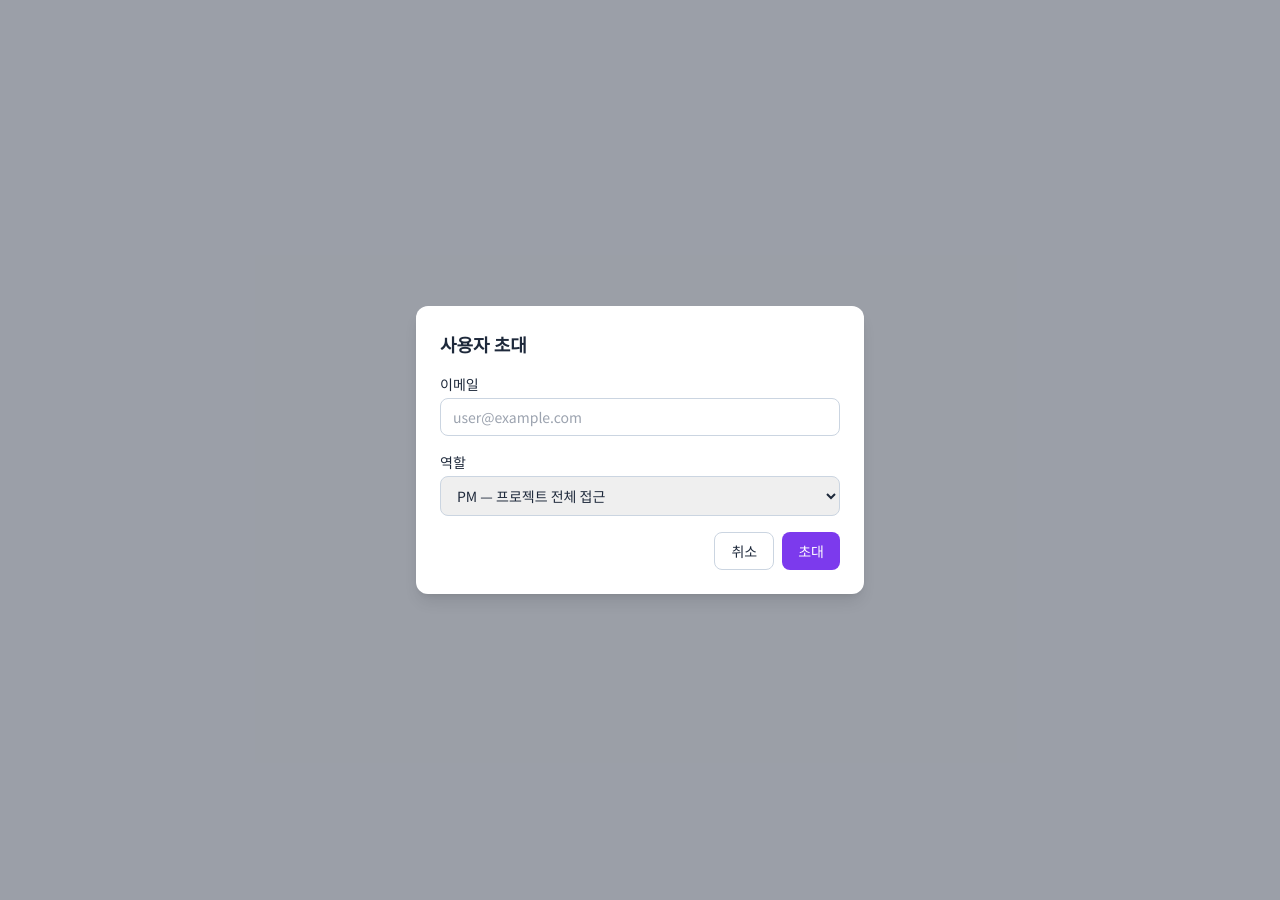
InviteUserModal › shows the server message when the email already exists
Type "dup@example.com" into the field labelled "이메일" at (640, 417), box 440,398 -> 840,436
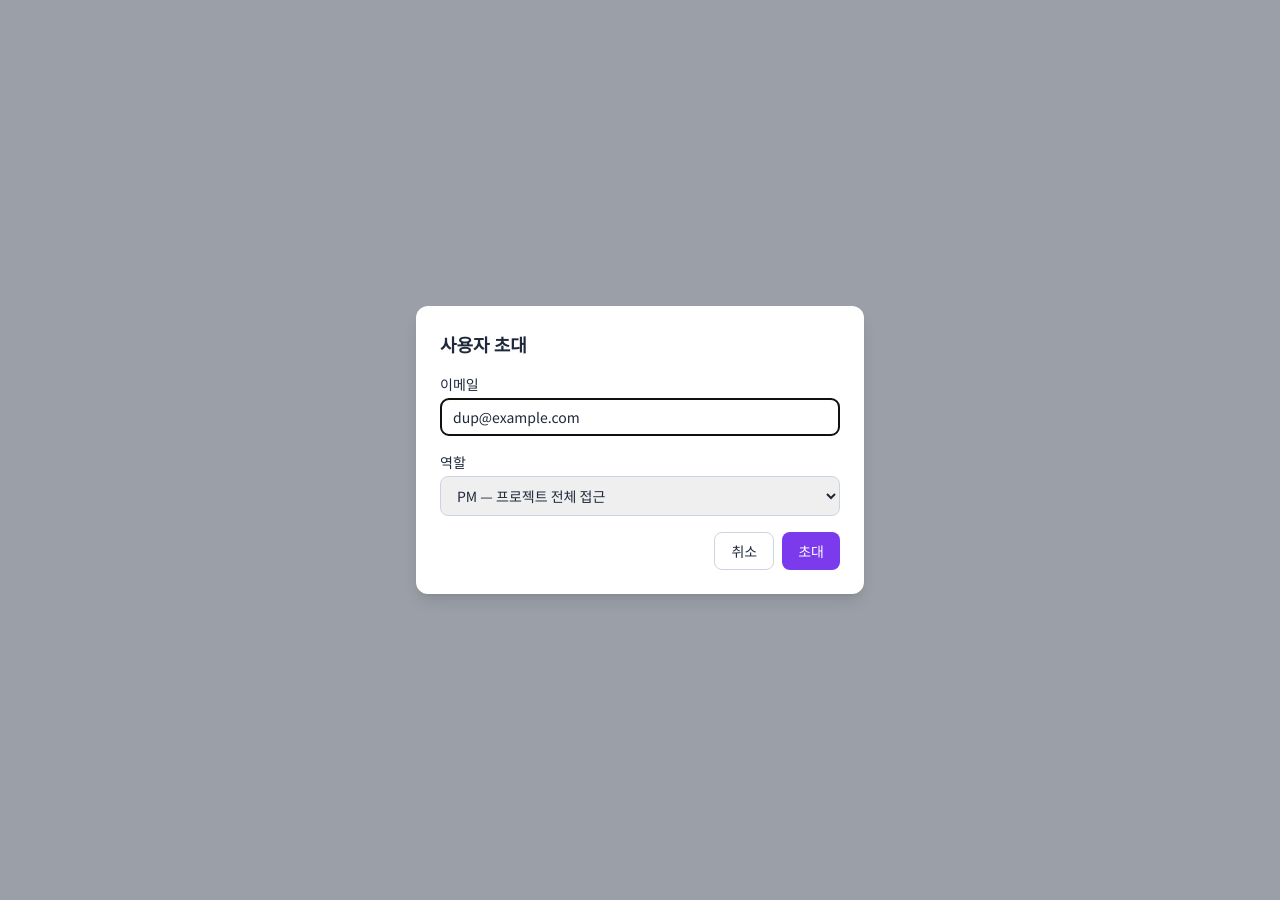
Click the button "초대" at (811, 551), box 782,532 -> 840,570
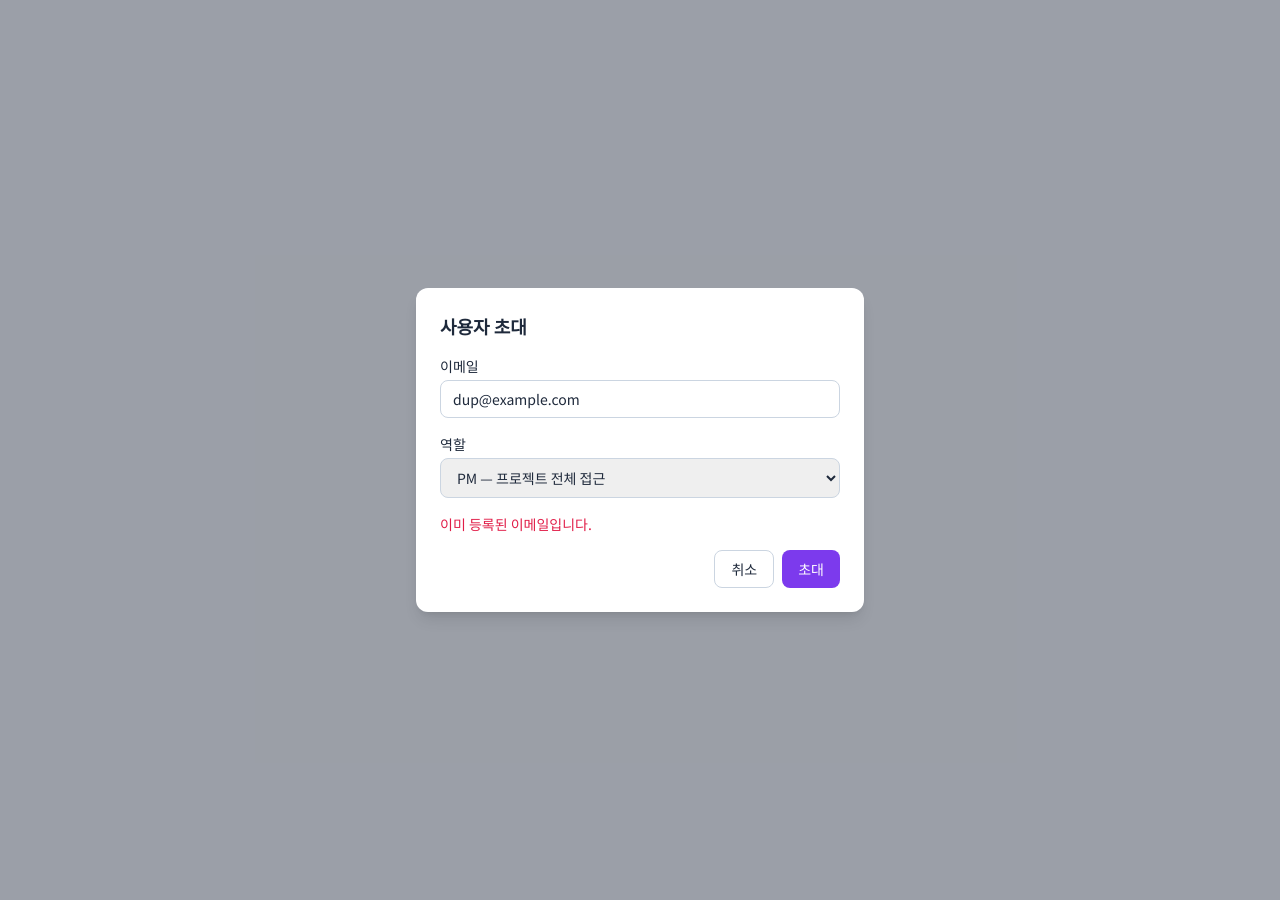
Check: the text "이미 등록된 이메일입니다." is shown, box 440,514 -> 592,534
